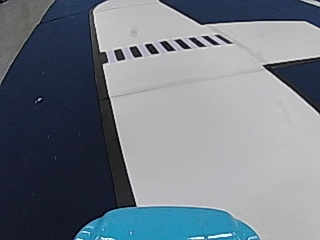CrossWalk: (103, 33, 229, 61)
